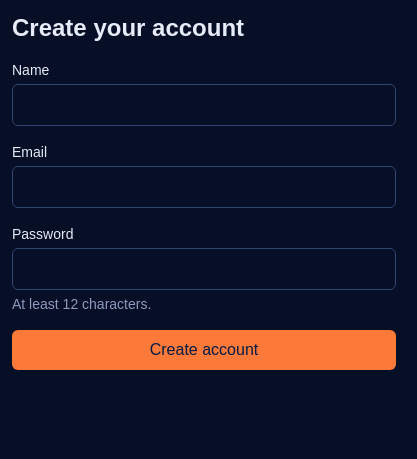
RegisterForm › shows a form-level alert when the server cannot be reached
This screenshot has width=417, height=459.
Type "Ann" into the field labelled "Name" at (204, 105), box [12, 84, 396, 126]
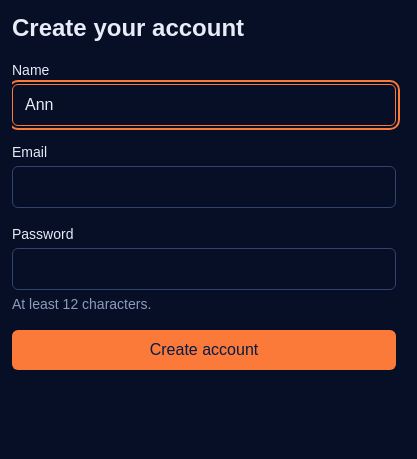
Type "ann@example.invalid" into the field labelled "Email" at (204, 187), box [12, 166, 396, 208]
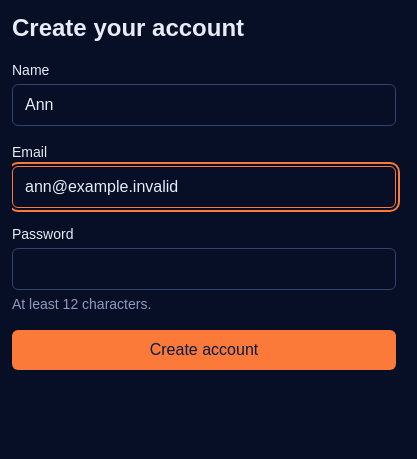
Type "correct horse battery" into the password field labelled "Password" at (204, 269), box [12, 248, 396, 290]
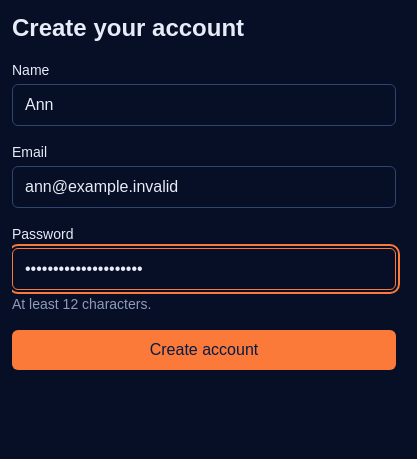
Click the button "Create account" at (204, 350), box [12, 330, 396, 370]
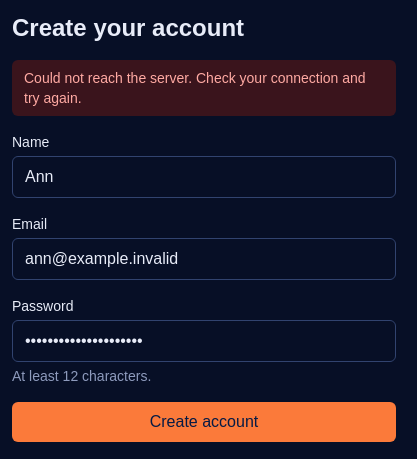
Check: the message shows "reach the server", box [24, 70, 366, 106]
